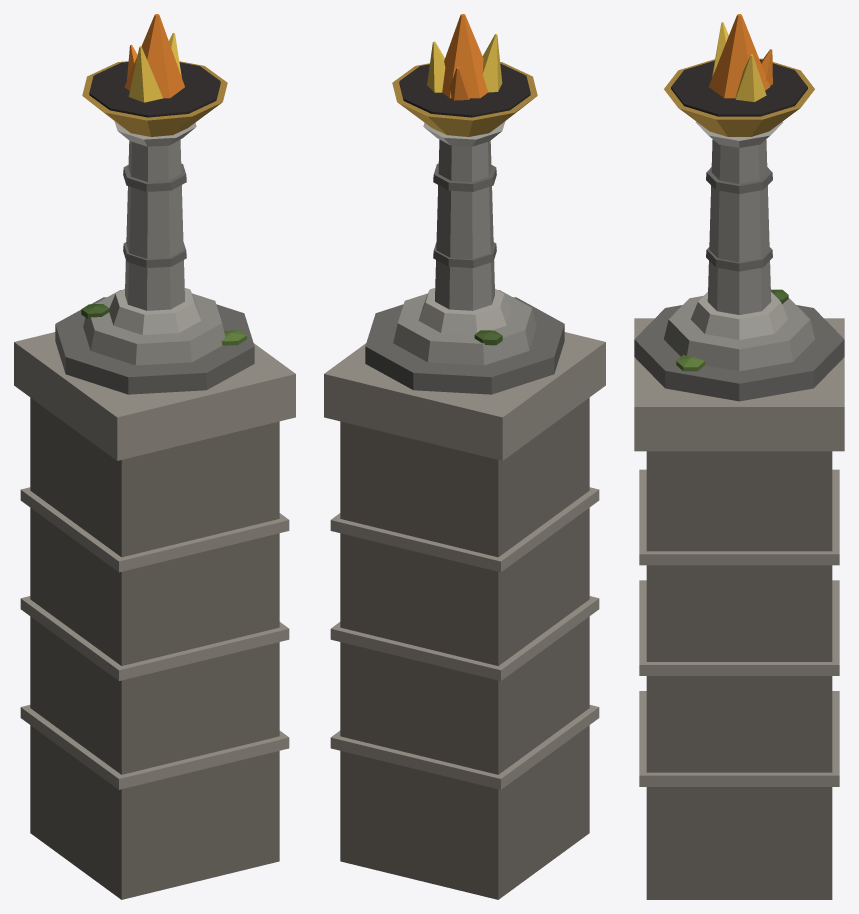
The model's file is decor_flame_pillar.glb.
3 renders of one model, left to right at view 1: azimuth 30°, elevation 25°; view 2: azimuth 150°, elevation 25°; view 3: azimuth 270°, elevation 25°, orthographic.
Parts seen in each view (by area): view 1: decor_flame_pillar; view 2: decor_flame_pillar; view 3: decor_flame_pillar.
Boxes of the visible parts, box(x1,y1,x2,y2) form: decor_flame_pillar: box(14, 14, 295, 899); decor_flame_pillar: box(324, 14, 605, 899); decor_flame_pillar: box(634, 14, 844, 899).
Size of the model in its own units: 1.72 by 7.65 by 1.72.
